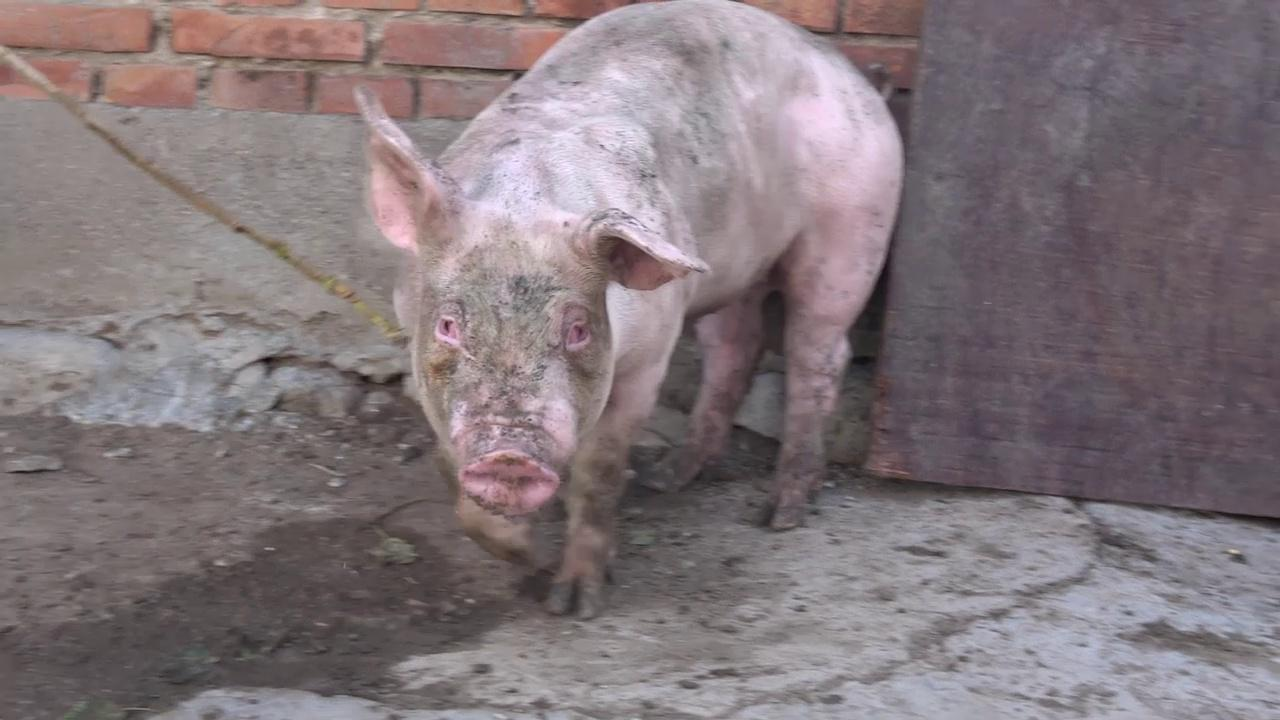Face: (346, 80, 715, 532)
